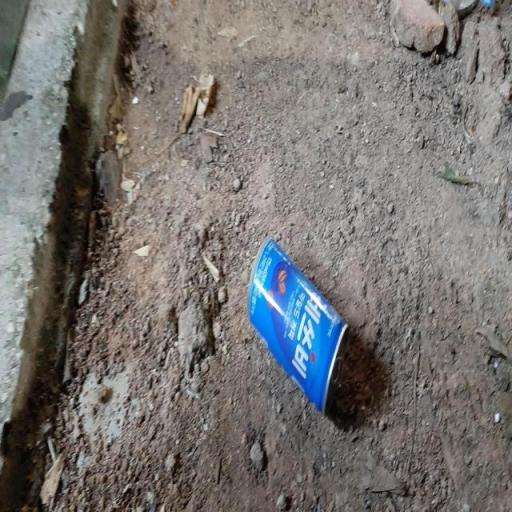metal: (199, 156, 353, 410)
